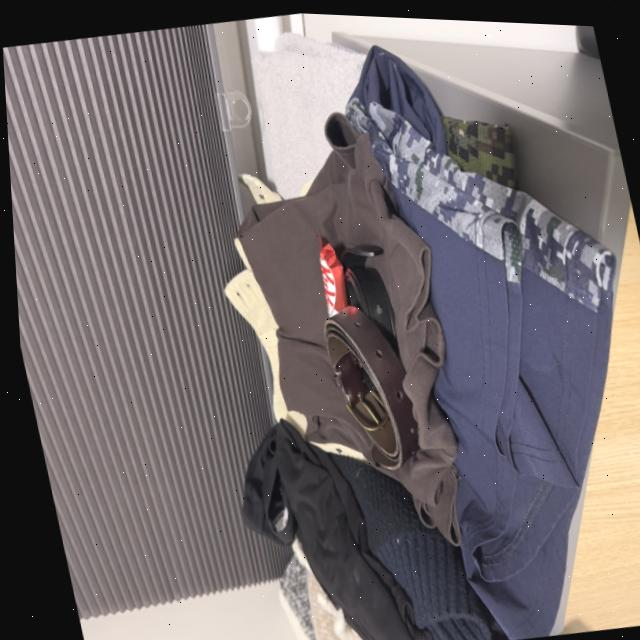chocolate: (304, 226, 361, 334)
